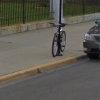Bicycle: (45, 15, 71, 60)
